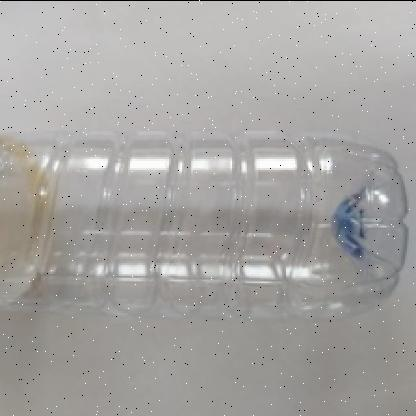Plastic Bottle: (0, 128, 408, 322)
